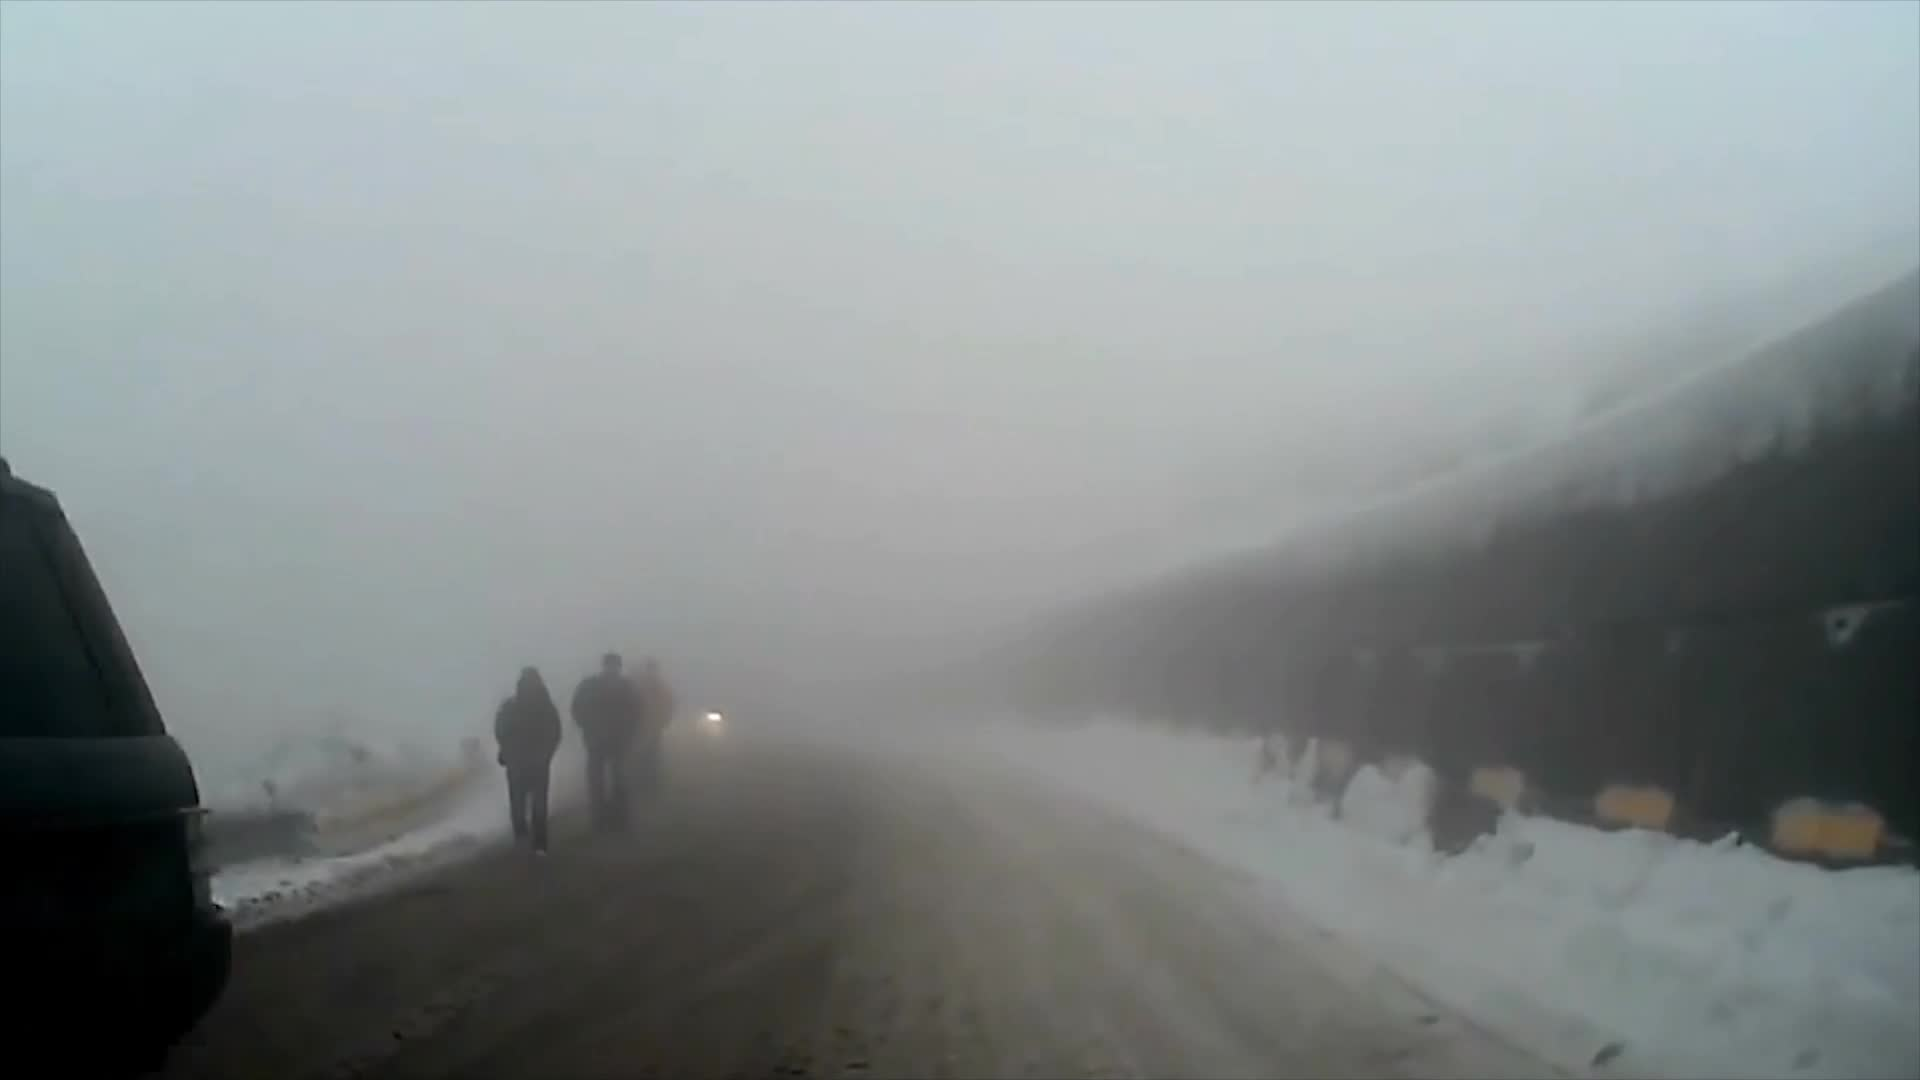pedestrian: (491, 669, 567, 859), (571, 651, 644, 833), (624, 655, 678, 820)
vehicle: (0, 440, 230, 1079)
